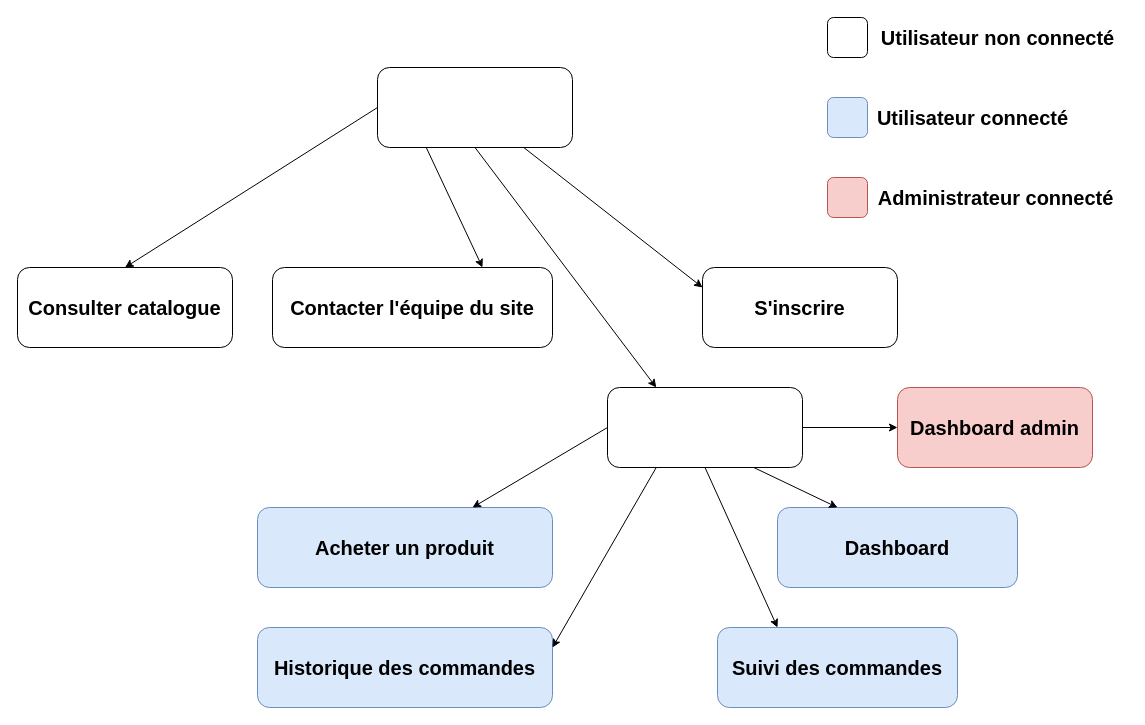
Some shapes in this 1145 by 725 pixel diagram are drawn without their labels. Each missing label, with the box of its shape:
Accueil: (376, 66, 572, 148)
Se connecter: (606, 386, 802, 468)
